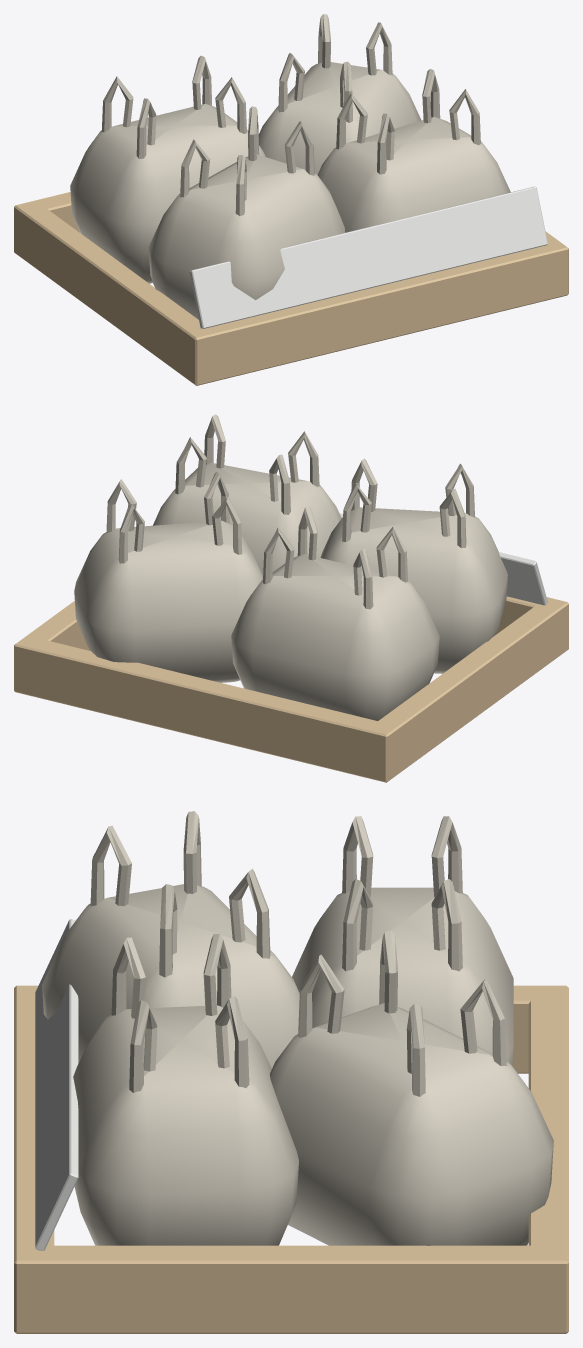
The picture shows the model from 3 angles, top to bottom: view 1: azimuth 30°, elevation 25°; view 2: azimuth 150°, elevation 25°; view 3: azimuth 270°, elevation 25°; orthographic projection. The views are drawn at different scales.
Visible parts, largest first — view 1: garden-aggregate-bag-bay; view 2: garden-aggregate-bag-bay; view 3: garden-aggregate-bag-bay.
Boxes of the visible parts, x1,y1,x2,y2 form: garden-aggregate-bag-bay: (14,14,568,385); garden-aggregate-bag-bay: (14,414,568,782); garden-aggregate-bag-bay: (14,811,568,1333).
Bounding box in the file's own units: 1.3 × 0.6321 × 1.1.
